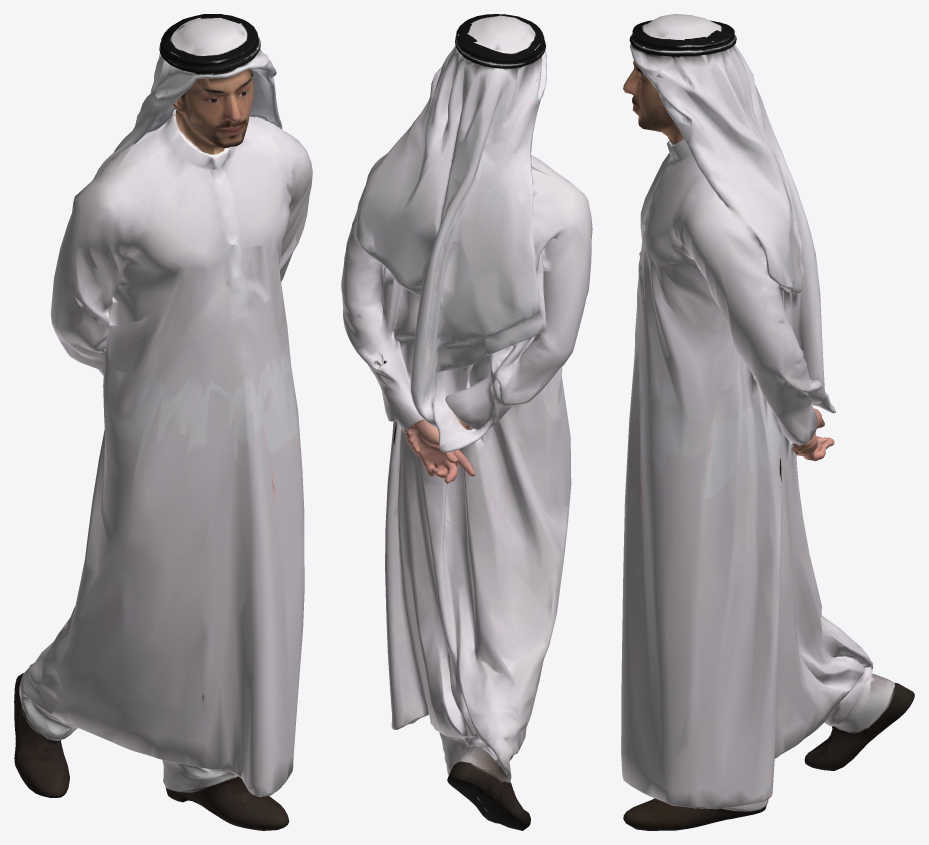
Rendered from gcc-1-near.glb.
3 views of the same model, side by side, from view 1: azimuth 30°, elevation 25°; view 2: azimuth 150°, elevation 25°; view 3: azimuth 270°, elevation 25° (orthographic). The views are drawn at different scales.
Parts seen in each view (by area): view 1: Mesh_0; view 2: Mesh_0; view 3: Mesh_0.
Part boxes in pixels (box(x1,y1,x2,y2)): Mesh_0: box(14, 14, 312, 830); Mesh_0: box(341, 14, 592, 830); Mesh_0: box(621, 14, 914, 830).
Bounding box in the file's own units: 0.621 × 1.9 × 0.6442.
Materials: 1 (1 with a texture image).
